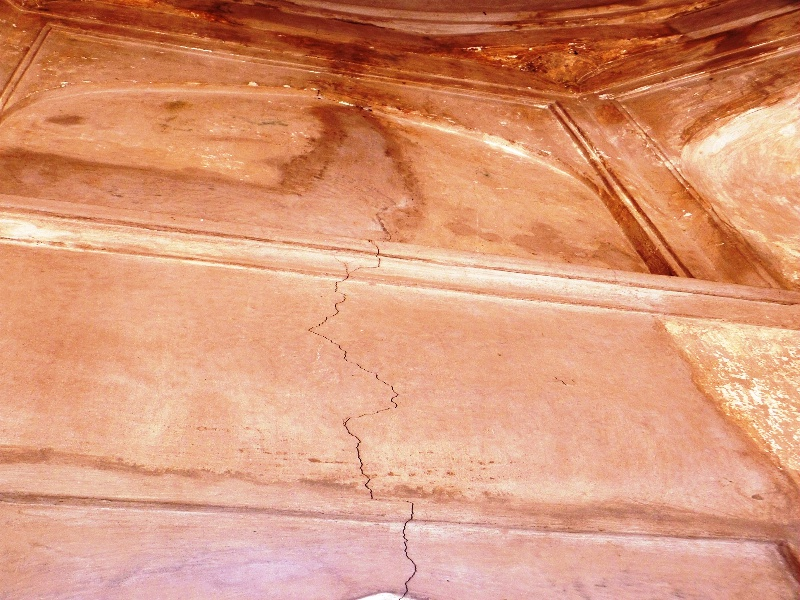Crack: (296, 272, 432, 598), (363, 186, 396, 266)
